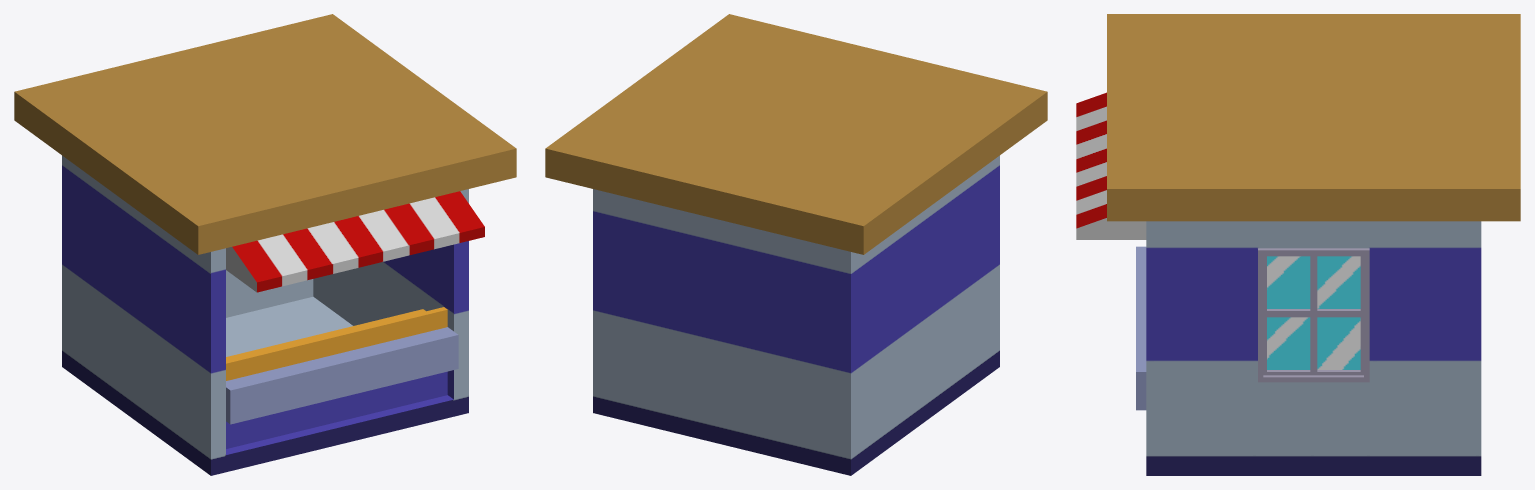
Rendered from Shopsshop1.fbx.
3 views of the same model, side by side, from view 1: azimuth 30°, elevation 25°; view 2: azimuth 150°, elevation 25°; view 3: azimuth 270°, elevation 25° (orthographic). The views are drawn at different scales.
Visible parts, largest first — view 1: shop1; view 2: shop1; view 3: shop1.
Part boxes in pixels (x1,y1,x2,y2): shop1: [14, 14, 516, 475]; shop1: [545, 14, 1047, 475]; shop1: [1076, 14, 1520, 475].
Size of the model in its own units: 2.47 by 2.65 by 2.
1 material, 1 textured.
